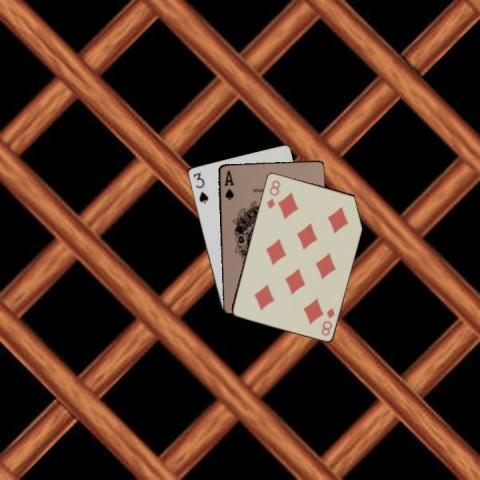3s: (190, 169, 209, 205)
8d: (264, 177, 282, 210), (318, 305, 336, 337)
As: (222, 167, 236, 201)
